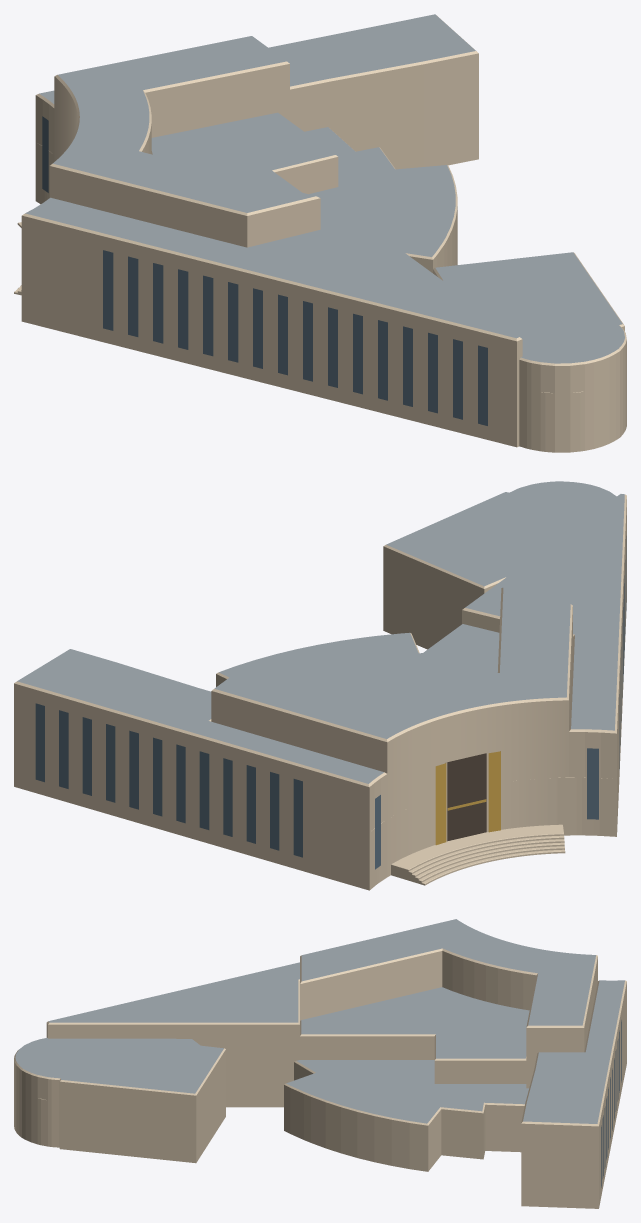
File: nyc-brooklyn-public-library.glb
3 views of the same model, one above another, from view 1: azimuth 30°, elevation 25°; view 2: azimuth 150°, elevation 25°; view 3: azimuth 270°, elevation 25° (orthographic). The views are drawn at different scales.
Parts seen in each view (by area): view 1: Central Library, Brooklyn Public Library; view 2: Central Library, Brooklyn Public Library; view 3: Central Library, Brooklyn Public Library.
Part boxes in pixels (box(x1,y1,x2,y2)): Central Library, Brooklyn Public Library: box(14, 14, 626, 452); Central Library, Brooklyn Public Library: box(14, 481, 626, 890); Central Library, Brooklyn Public Library: box(14, 919, 626, 1208).
Bounding box in the file's own units: 96.63 × 25.1 × 128.
